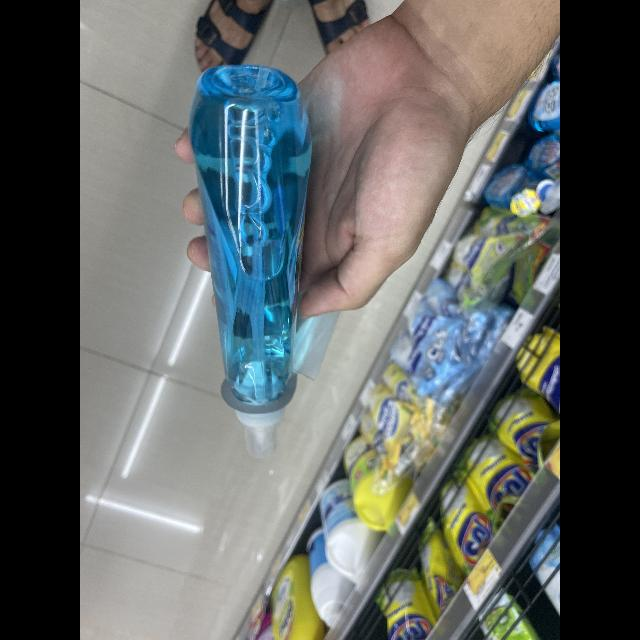chemical_plastic_bottle: (181, 48, 313, 460)
